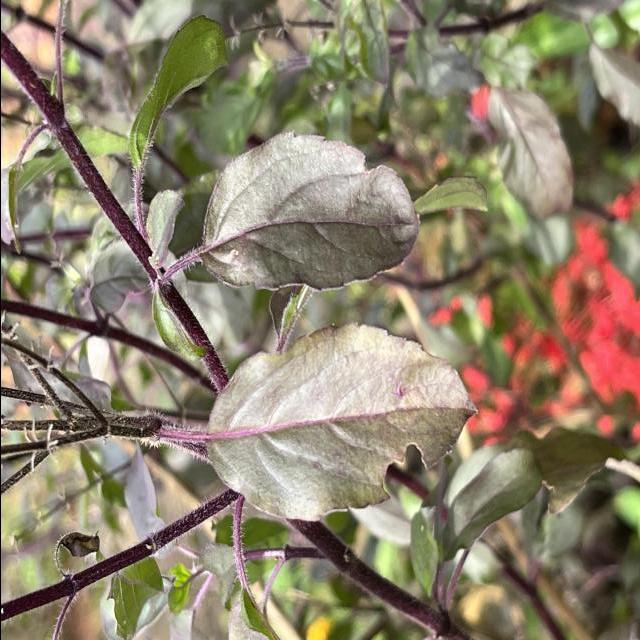Ocimum tenuiflorum: (202, 320, 480, 522), (198, 126, 422, 293)
